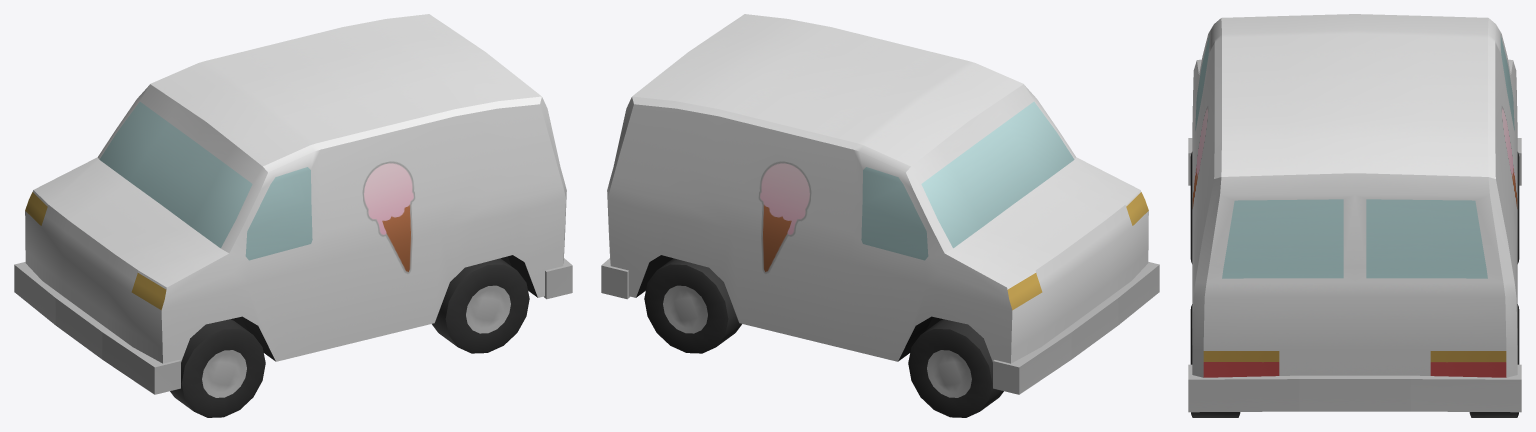
Rendered from Van.fbx.
The picture shows the model from 3 angles, left to right: view 1: azimuth 30°, elevation 25°; view 2: azimuth 150°, elevation 25°; view 3: azimuth 270°, elevation 25°; orthographic projection. The views are drawn at different scales.
Visible parts, largest first — view 1: Van, Wheel Front_L, Wheel Back_L; view 2: Van, Wheel Front_R, Wheel Back_R; view 3: Van, Wheel Back_L, Wheel Back_R, Wheel Front_L, Wheel Front_R.
Part boxes in pixels (left/top/right/bottom): Van: left=14, top=14, right=572, bottom=394; Wheel Front_L: left=170, top=319, right=265, bottom=417; Wheel Back_L: left=432, top=258, right=529, bottom=353; Van: left=601, top=14, right=1159, bottom=394; Wheel Front_R: left=908, top=319, right=1003, bottom=417; Wheel Back_R: left=644, top=258, right=741, bottom=353; Van: left=1188, top=14, right=1521, bottom=412; Wheel Back_L: left=1190, top=304, right=1240, bottom=417; Wheel Back_R: left=1469, top=304, right=1519, bottom=417; Wheel Front_L: left=1190, top=152, right=1192, bottom=263; Wheel Front_R: left=1517, top=152, right=1519, bottom=263.
Size of the model in its own units: 496 by 270 by 283.
Materials: 1 (1 with a texture image).
